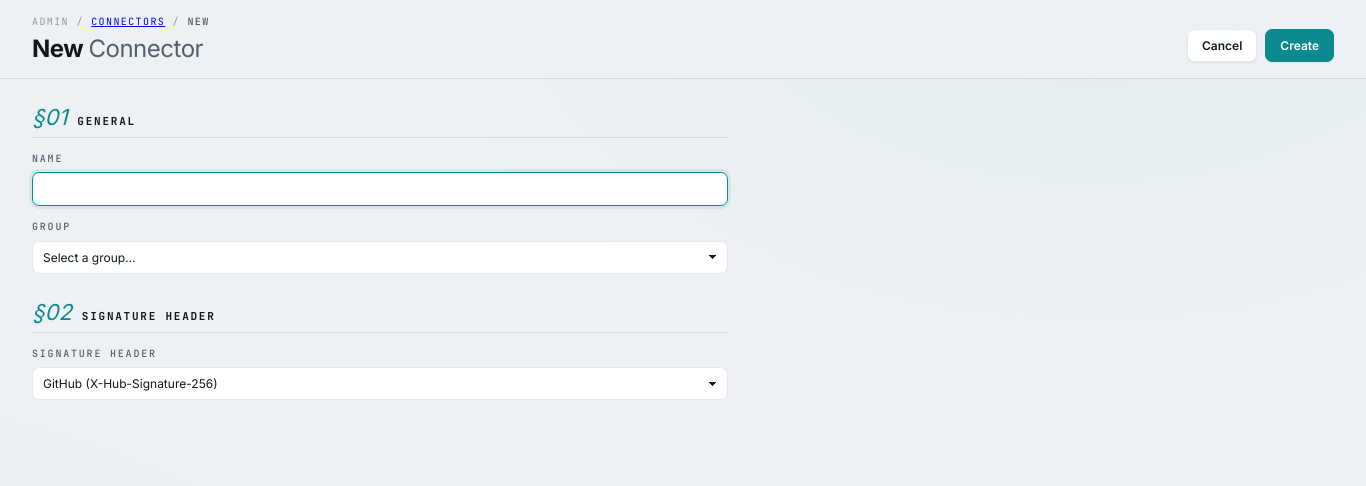
it: ConnectorForm › reveals custom header input when Custom… is selected
The width and height of the screenshot is (1366, 486).
Select "Custom…" in the dropdown labelled "Signature Header": (380, 384) [32,367,728,400]
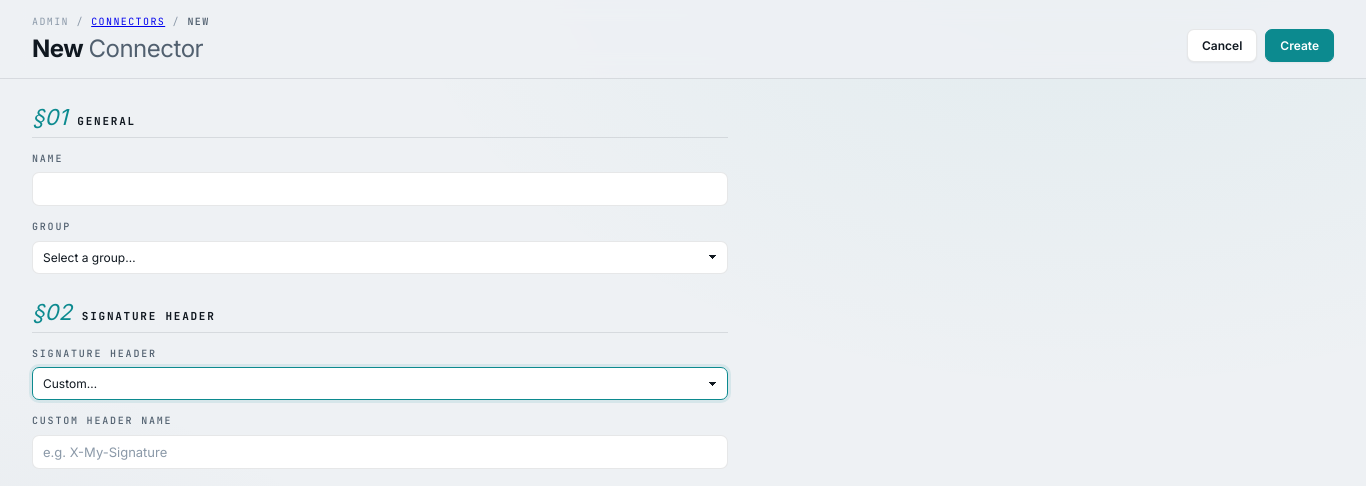
Expected: the field labelled "Custom Header Name" is shown, [32,435,728,469]
